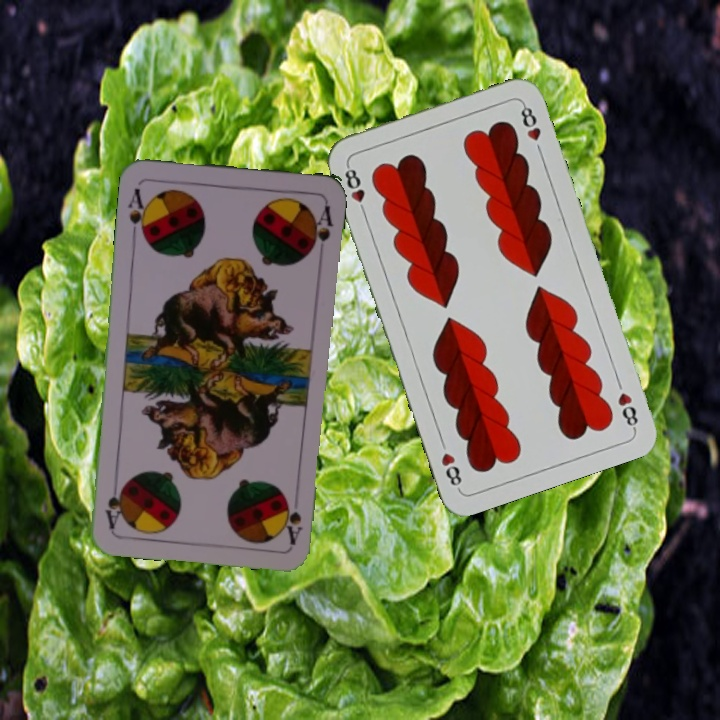H8: (340, 160, 369, 218), (612, 374, 641, 432)
SA: (124, 184, 151, 241), (280, 495, 305, 547)
